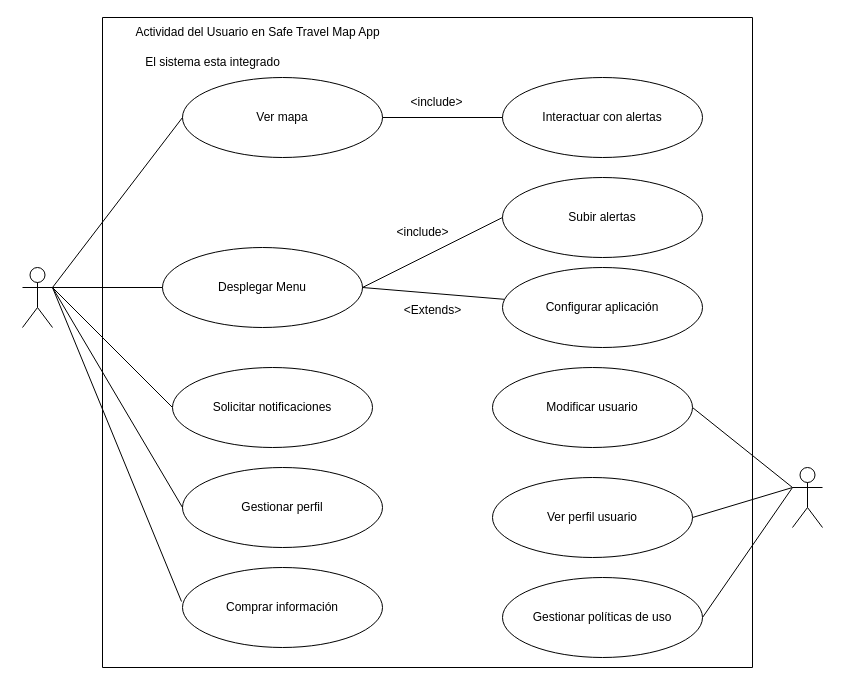
Some shapes in this 842 by 685 pixel diagram are drawn without their labels. The centre of each missing label's shape, as x and y in pixels:
"Admin" belongs at [807,497].
"Usuario" belongs at [37,297].
